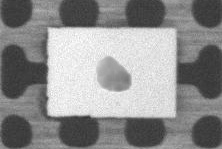DIE_INK: (131, 33, 206, 65)
